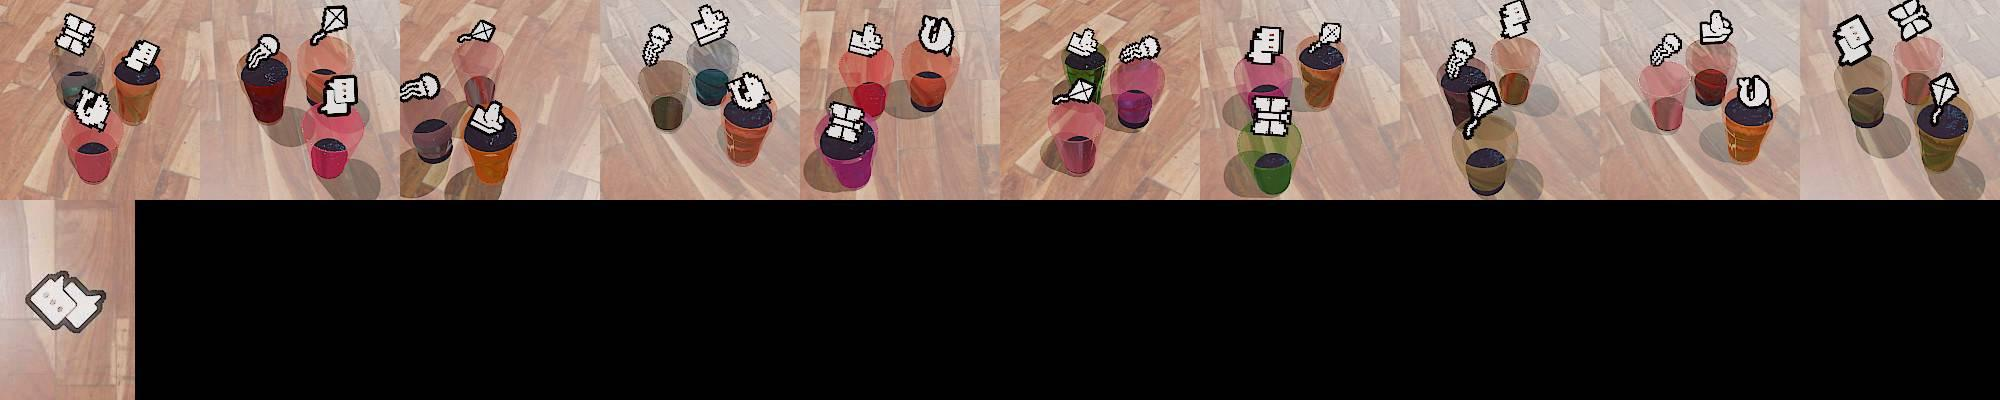icon: (25, 270, 108, 334), (1460, 84, 1503, 143), (1250, 91, 1293, 137), (1925, 72, 1960, 128), (824, 99, 868, 143), (54, 13, 97, 58), (688, 3, 730, 48), (1888, 0, 1932, 40), (729, 70, 771, 111), (320, 73, 360, 116), (1835, 15, 1872, 61), (1245, 24, 1285, 66), (72, 88, 111, 130), (917, 14, 955, 57), (1734, 73, 1774, 113), (310, 5, 349, 46), (1441, 38, 1477, 80), (642, 23, 674, 68), (468, 100, 509, 135), (244, 33, 281, 71), (846, 21, 884, 57), (399, 71, 442, 102), (1065, 26, 1101, 63), (1498, 0, 1531, 39), (1053, 77, 1097, 106), (1118, 35, 1159, 65), (1699, 9, 1733, 45), (123, 38, 160, 71), (1650, 32, 1682, 69), (457, 20, 495, 46), (1318, 21, 1342, 47)
